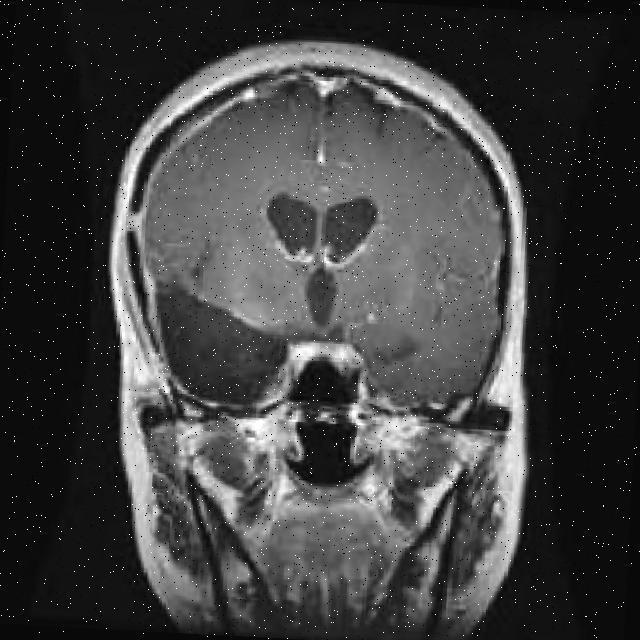LMCI: (127, 247, 286, 401)
